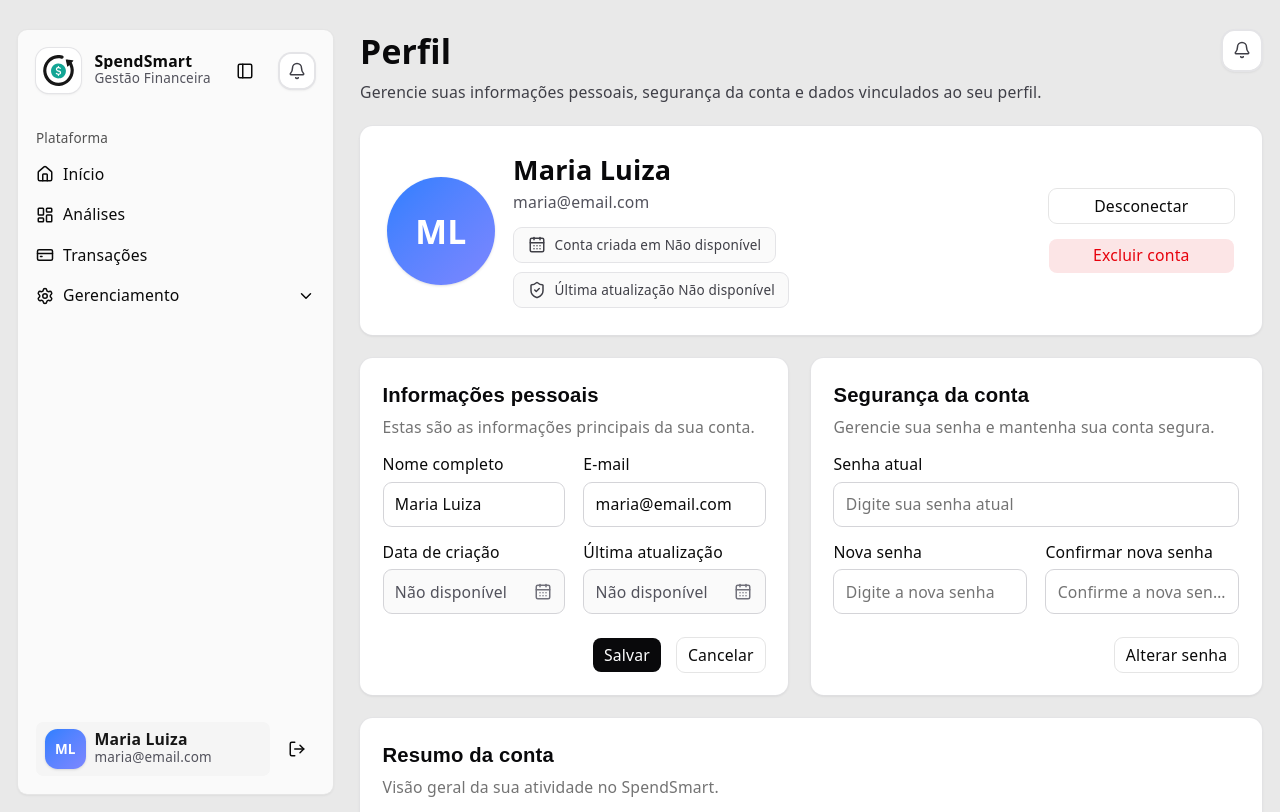
Scenario: Perfil › deve salvar alteracoes pessoais na sessao local
Replace the text in the field labelled "Nome completo" with "Maria Madeira": (474, 504) [382,482,565,527]
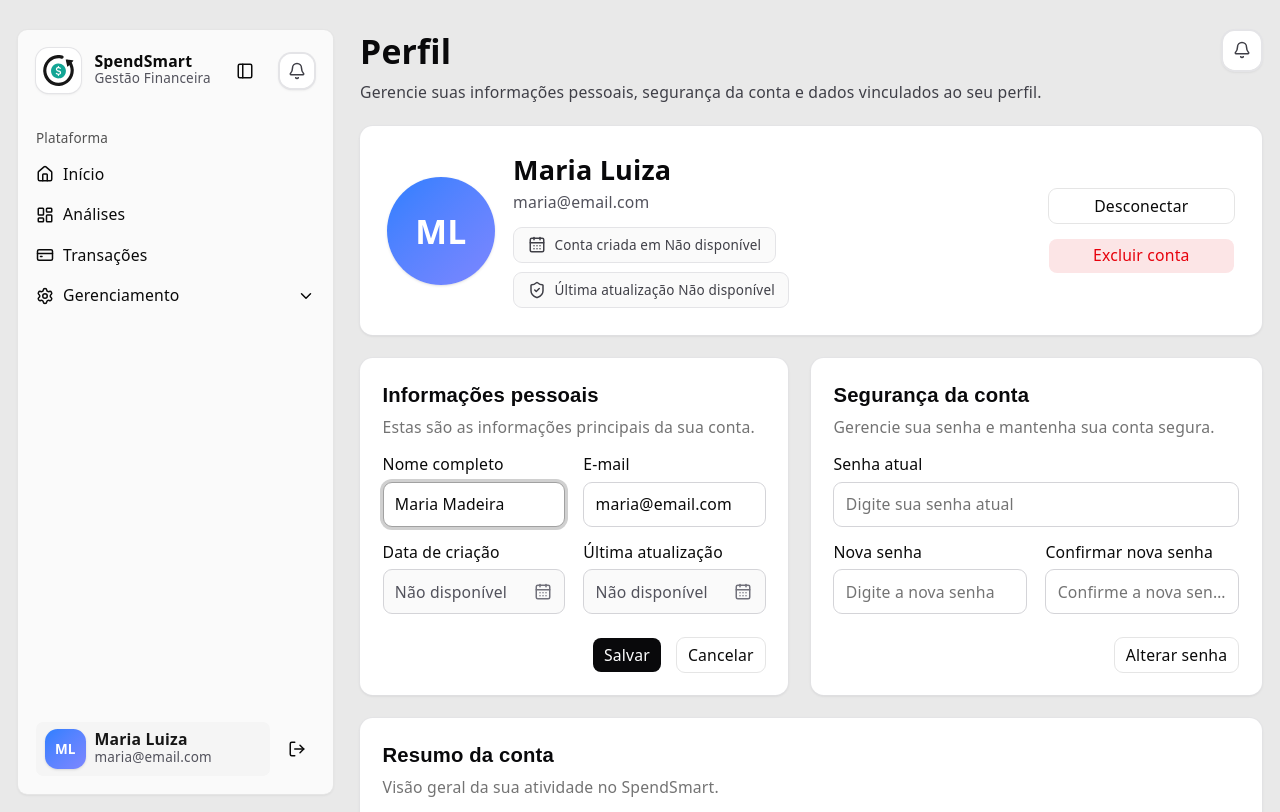
Click the button "Salvar": (627, 655) [592,637,662,673]
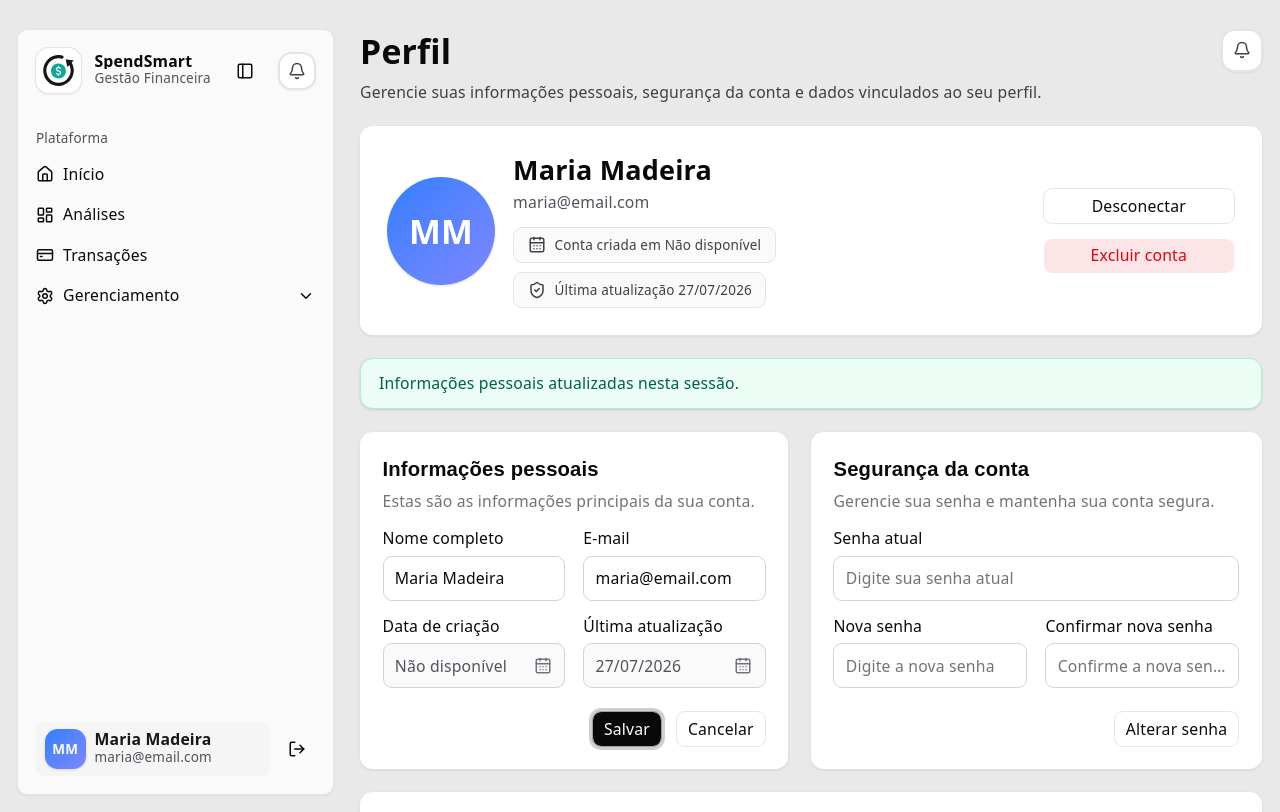
Expected: the text "Informações pessoais atualizadas nesta sessão." is shown, [360,358,1262,409]
